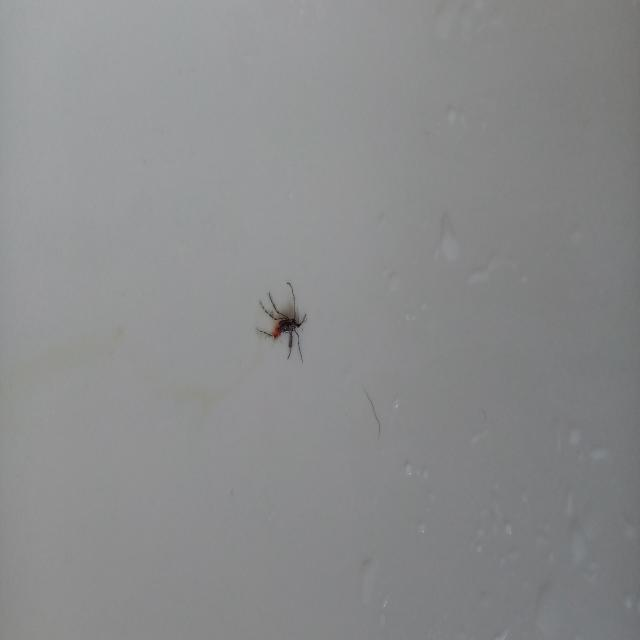albopictus: (255, 274, 311, 368)
